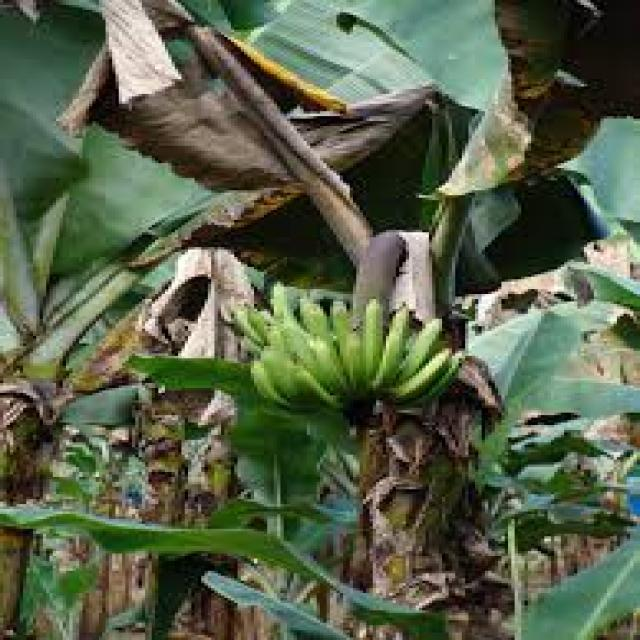banana: (228, 279, 462, 420)
